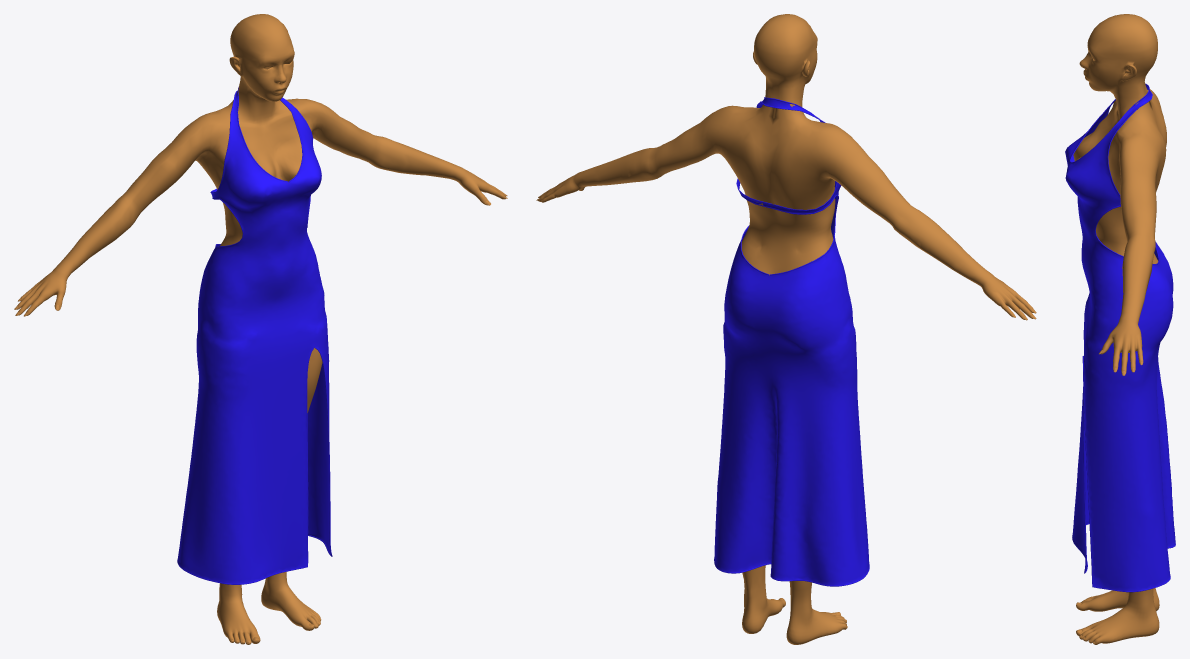
Rendered from dress9.glb.
The picture shows the model from 3 angles, left to right: view 1: azimuth 30°, elevation 25°; view 2: azimuth 150°, elevation 25°; view 3: azimuth 270°, elevation 25°; orthographic projection.
Visible parts, largest first — view 1: EveningDress, Body; view 2: EveningDress, Body; view 3: EveningDress, Body.
Part boxes in pixels (x1,y1,x2,y2): EveningDress: [177, 87, 332, 584]; Body: [16, 14, 506, 644]; EveningDress: [714, 97, 869, 586]; Body: [538, 14, 1033, 644]; EveningDress: [1065, 83, 1175, 592]; Body: [1073, 14, 1166, 644].
Size of the model in its own units: 1.58 by 1.85 by 0.306.
